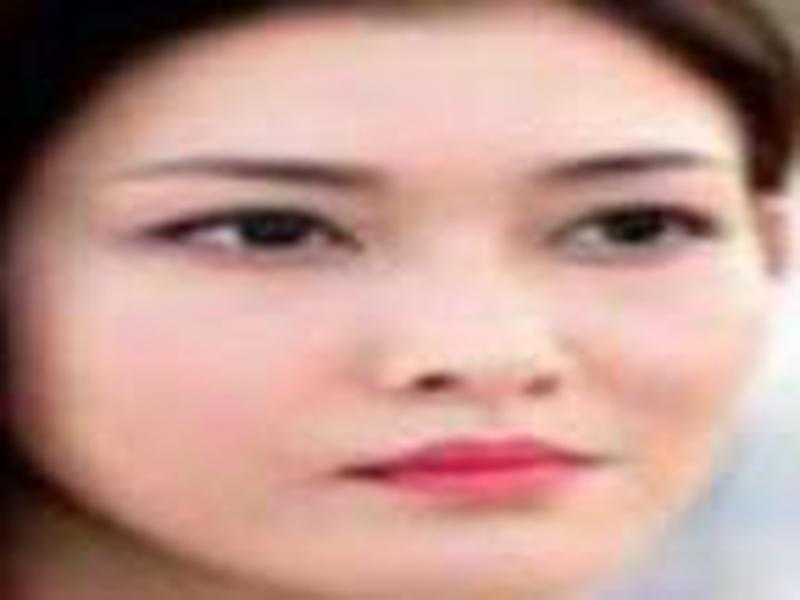without_mask: (29, 33, 765, 593)
